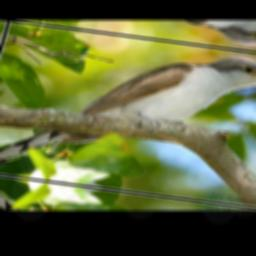Cuckoo: (0, 28, 256, 206)
